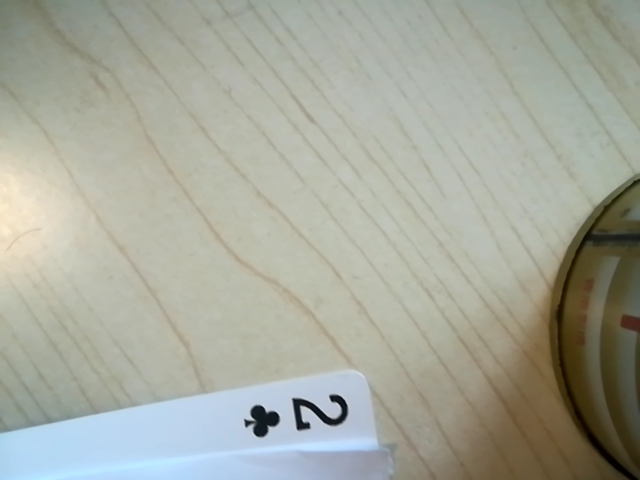mh 2: (234, 383, 370, 450)
